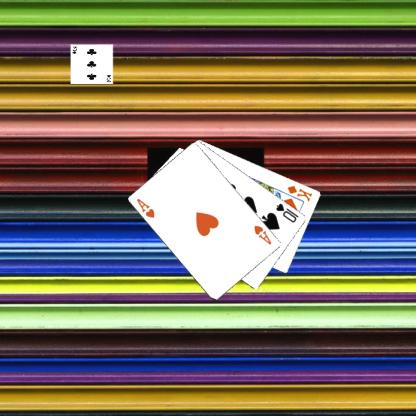10S: (274, 200, 300, 224)
AH: (251, 222, 273, 246), (134, 196, 156, 219)
KD: (284, 182, 314, 203)
